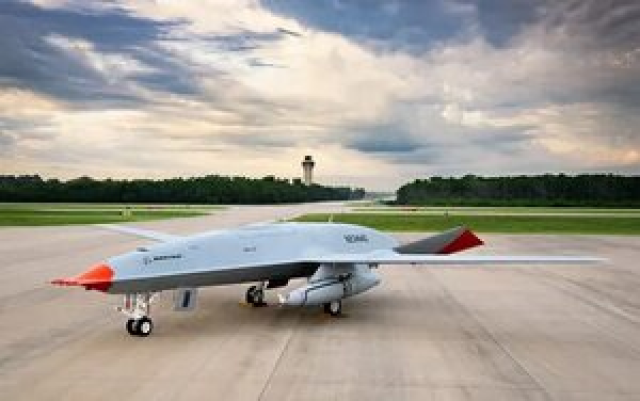military drone: (42, 221, 609, 337)
